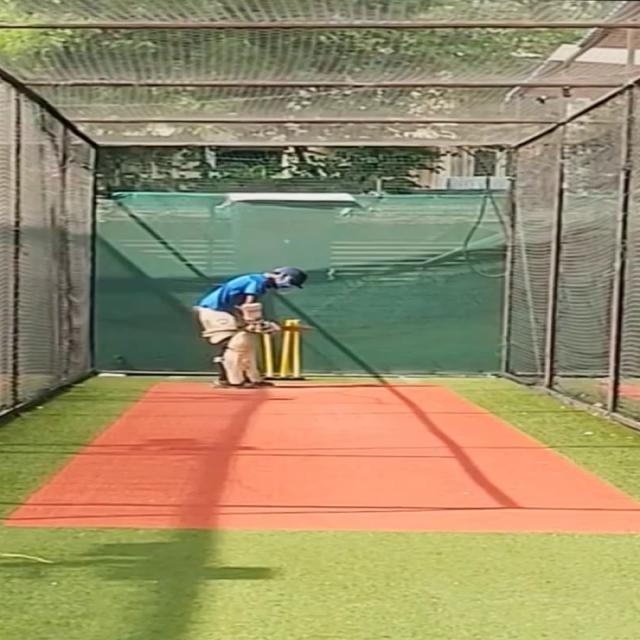stump: (263, 317, 305, 380)
